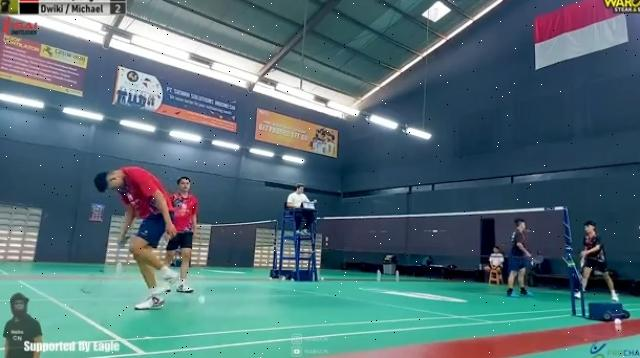Shuttlecock: (194, 292, 208, 306)
